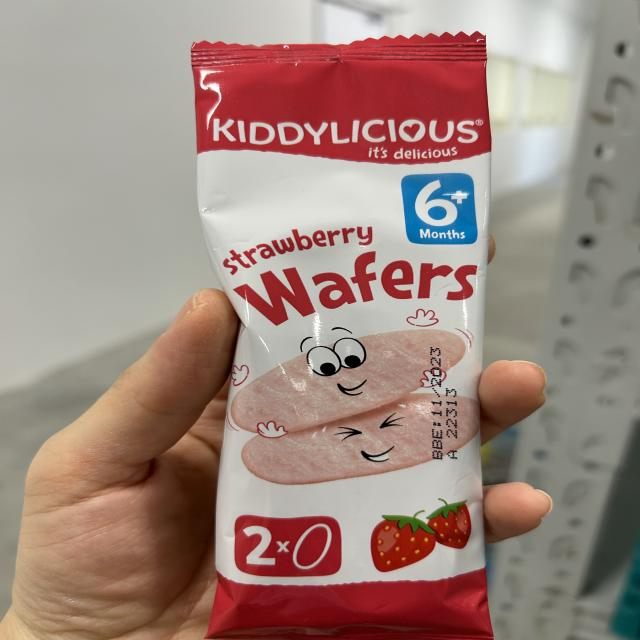object_name: (191, 37, 485, 632)
